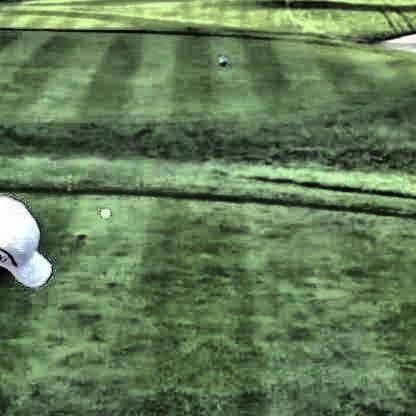golfball: (98, 206, 108, 215)
